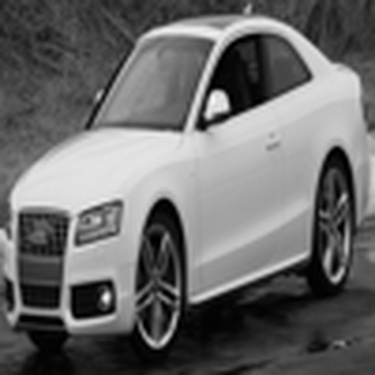car: (6, 1, 371, 371)
